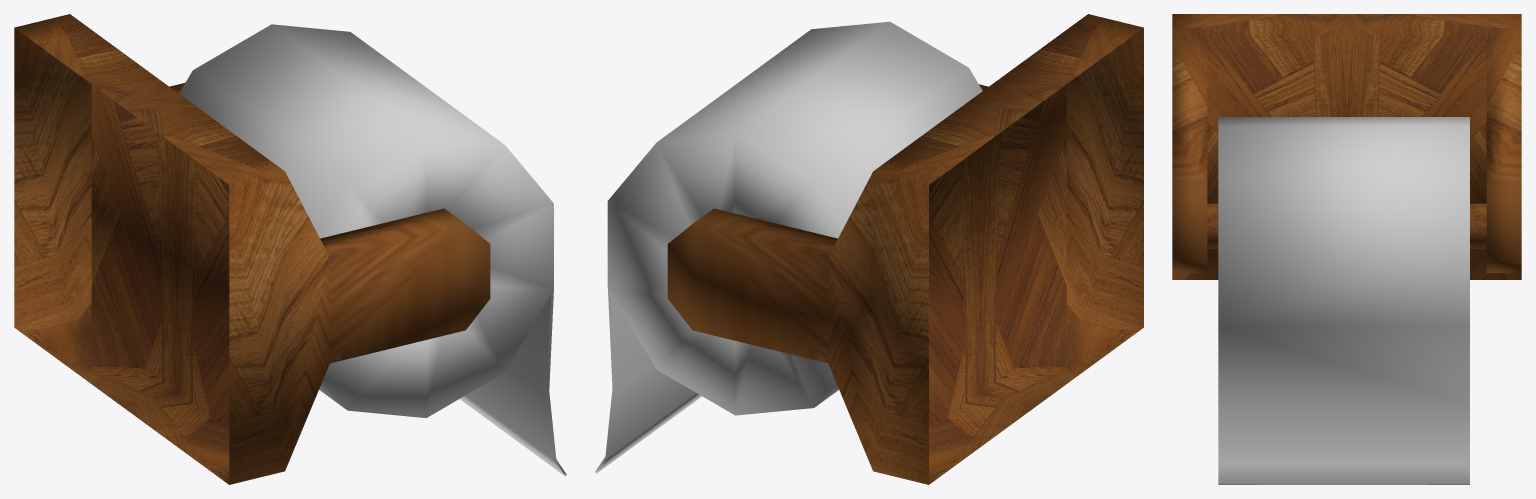
Rendered from ToiletPaperroll.fbx.
3 renders of one model, left to right at view 1: azimuth 30°, elevation 25°; view 2: azimuth 150°, elevation 25°; view 3: azimuth 270°, elevation 25°, orthographic. The views are drawn at different scales.
Parts seen in each view (by area): view 1: Cylinder; view 2: Cylinder; view 3: Cylinder.
Part boxes in pixels (x1=…): Cylinder: x1=14, y1=14, x2=566, y2=484; Cylinder: x1=595, y1=14, x2=1143, y2=484; Cylinder: x1=1172, y1=14, x2=1521, y2=484.
Size of the model in its own units: 119 by 124 by 121.
